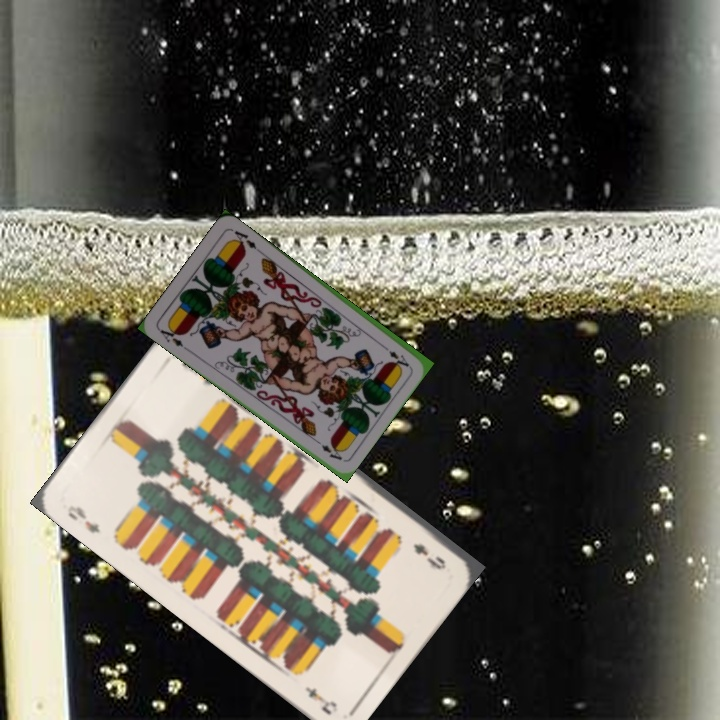E9: (63, 501, 103, 536), (409, 539, 449, 573)
EA: (155, 321, 190, 353), (377, 340, 412, 369)
